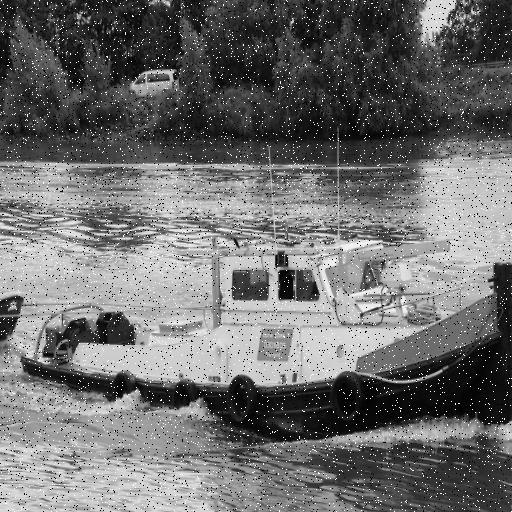tugboat: (17, 224, 512, 468)
